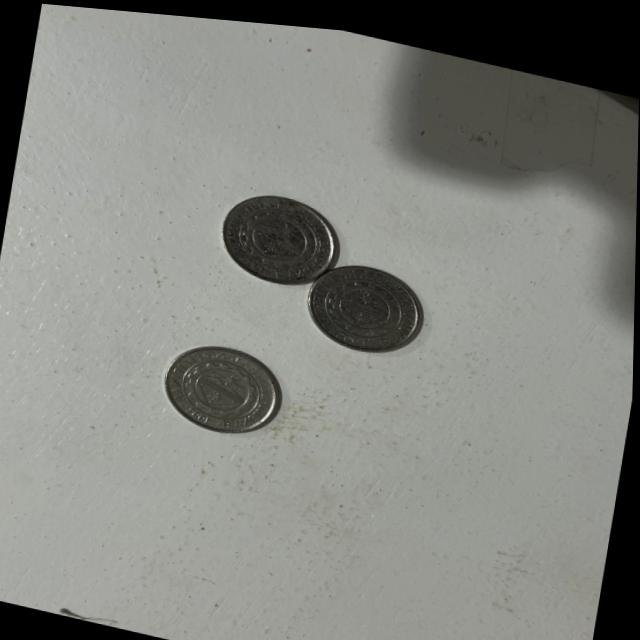1_Old_Back: (178, 348, 271, 426), (318, 260, 408, 337), (235, 197, 325, 272)
